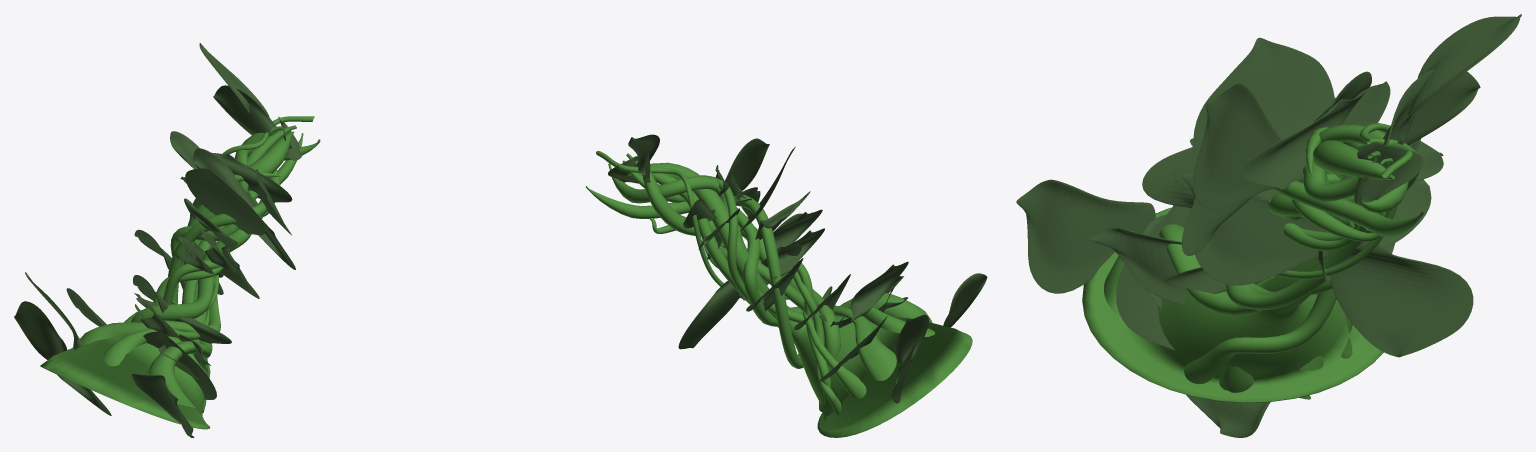
File: BeansalkBridge#06.fbx
The picture shows the model from 3 angles, left to right: view 1: azimuth 30°, elevation 25°; view 2: azimuth 150°, elevation 25°; view 3: azimuth 270°, elevation 25°; orthographic projection. The views are drawn at different scales.
Parts seen in each view (by area): view 1: Stalk12.053, Stalk12.054|Plane.007|Dupli|2, Stalk12.049, Stalk12.054, Stalk12.044, Stalk12.053|Plane.007|Dupli|4, Stalk12.053|Plane.007|Dupli|5, Stalk12.052, Stalk12.048, Stalk12.053|Plane.007|Dupli|7, Stalk12.052|Plane.007|Dupli|, Stalk12.052|Plane.007|Dupli|5 (+19 smaller); view 2: Stalk12.053, Stalk12.052, Stalk12.044, Stalk12.049, Stalk12.054, Stalk12.045, Stalk12.051, Stalk12.048, Stalk12.044|Plane.007|Dupli|5, Stalk12.044|Plane.007|Dupli|7, Stalk12.052|Plane.007|Dupli|6, Stalk12.044|Plane.007|Dupli|3 (+10 smaller); view 3: Stalk12.053, Stalk12.044|Plane.007|Dupli|5, Stalk12.053|Plane.007|Dupli|7, Stalk12.054|Plane.007|Dupli|2, Stalk12.052|Plane.007|Dupli|6, Stalk12.044|Plane.007|Dupli|6, Stalk12.052, Stalk12.054|Plane.007|Dupli|3, Stalk12.049, Stalk12.052|Plane.007|Dupli|, Stalk12.053|Plane.007|Dupli|6, Stalk12.053|Plane.007|Dupli|5 (+17 smaller).
Boxes of the visible parts, x1,y1,x2,y2 form: Stalk12.053: (40, 131, 294, 429); Stalk12.054|Plane.007|Dupli|2: (185, 168, 265, 235); Stalk12.049: (148, 126, 289, 409); Stalk12.054: (131, 126, 283, 322); Stalk12.044: (72, 125, 296, 347); Stalk12.053|Plane.007|Dupli|4: (14, 301, 67, 359); Stalk12.053|Plane.007|Dupli|5: (213, 85, 291, 148); Stalk12.052: (168, 133, 303, 412); Stalk12.048: (103, 172, 281, 366); Stalk12.053|Plane.007|Dupli|7: (131, 374, 192, 430); Stalk12.052|Plane.007|Dupli|: (211, 152, 292, 203); Stalk12.052|Plane.007|Dupli|5: (193, 148, 262, 218); Stalk12.053: (626, 162, 972, 437); Stalk12.052: (586, 186, 803, 368); Stalk12.044: (626, 153, 896, 380); Stalk12.049: (622, 160, 932, 326); Stalk12.054: (642, 170, 840, 412); Stalk12.045: (596, 150, 866, 398); Stalk12.051: (608, 163, 804, 311); Stalk12.048: (700, 175, 935, 336); Stalk12.044|Plane.007|Dupli|5: (678, 280, 739, 349); Stalk12.044|Plane.007|Dupli|7: (851, 261, 908, 319); Stalk12.052|Plane.007|Dupli|6: (725, 138, 769, 190); Stalk12.044|Plane.007|Dupli|3: (895, 314, 928, 364); Stalk12.053: (1082, 140, 1396, 402); Stalk12.044|Plane.007|Dupli|5: (1327, 241, 1473, 357); Stalk12.053|Plane.007|Dupli|7: (1016, 179, 1155, 293); Stalk12.054|Plane.007|Dupli|2: (1193, 37, 1334, 202); Stalk12.052|Plane.007|Dupli|6: (1193, 83, 1281, 209); Stalk12.044|Plane.007|Dupli|6: (1182, 171, 1329, 285); Stalk12.052: (1184, 170, 1423, 384); Stalk12.054|Plane.007|Dupli|3: (1396, 14, 1521, 144); Stalk12.049: (1104, 158, 1392, 318); Stalk12.052|Plane.007|Dupli|: (1239, 90, 1367, 190); Stalk12.053|Plane.007|Dupli|6: (1088, 227, 1186, 304); Stalk12.053|Plane.007|Dupli|5: (1357, 69, 1480, 181).
Size of the model in its own units: 192 by 145 by 123.
